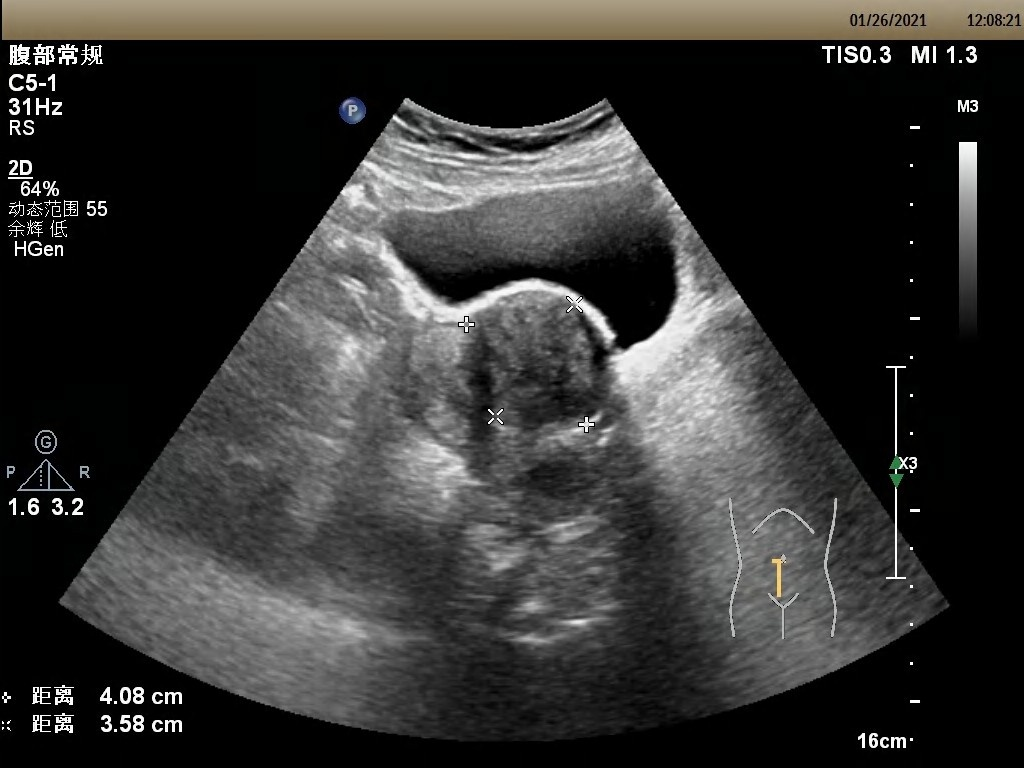肌瘤: (473, 309, 595, 419)
